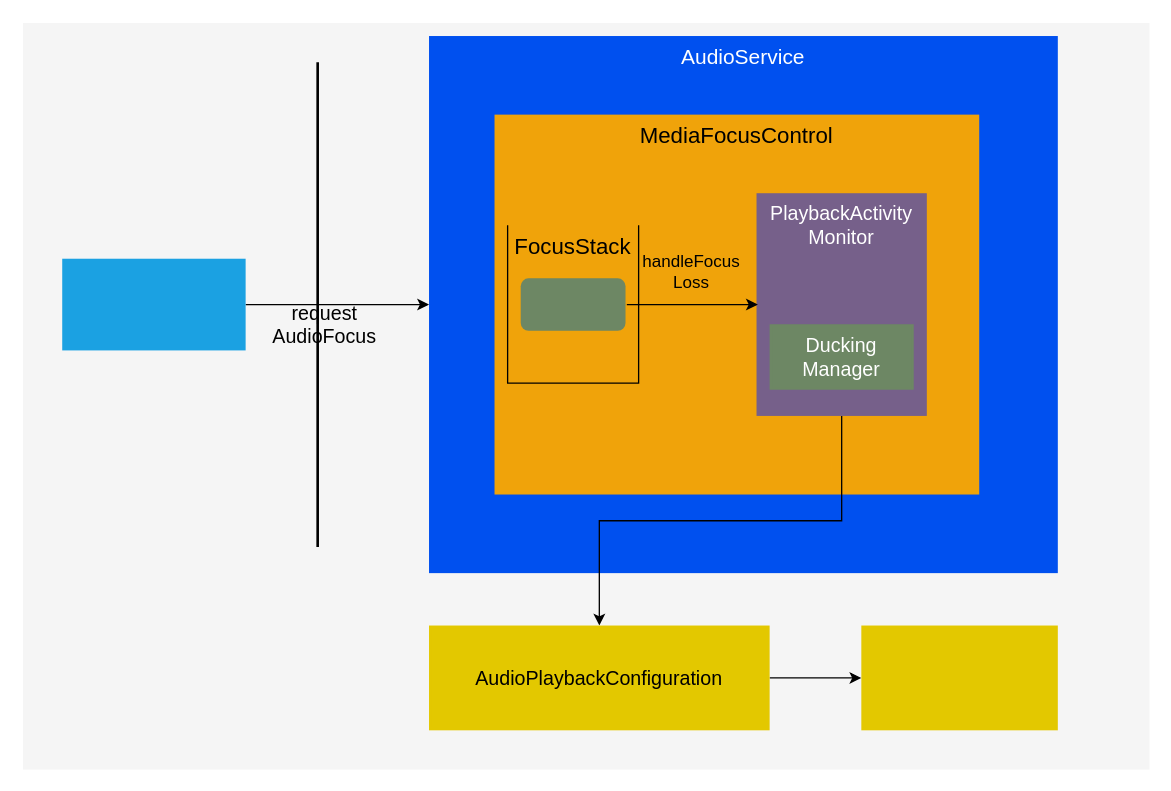
The diagram is 1171 pixels wide and 791 high, and some of its shapes have lost their labels. Each missing label, with the centre of its shape:
"AudioManager" belongs at (153,304).
"Focus Requester" belongs at (572,304).
"PlayerProxy" belongs at (959,677).
